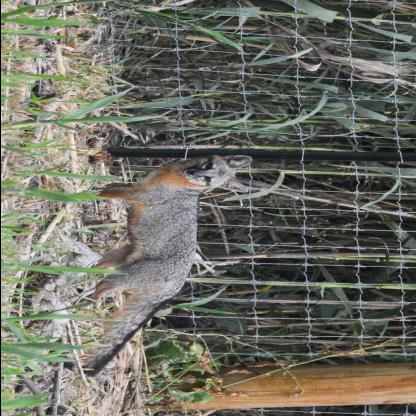zorro: (49, 155, 258, 375)
